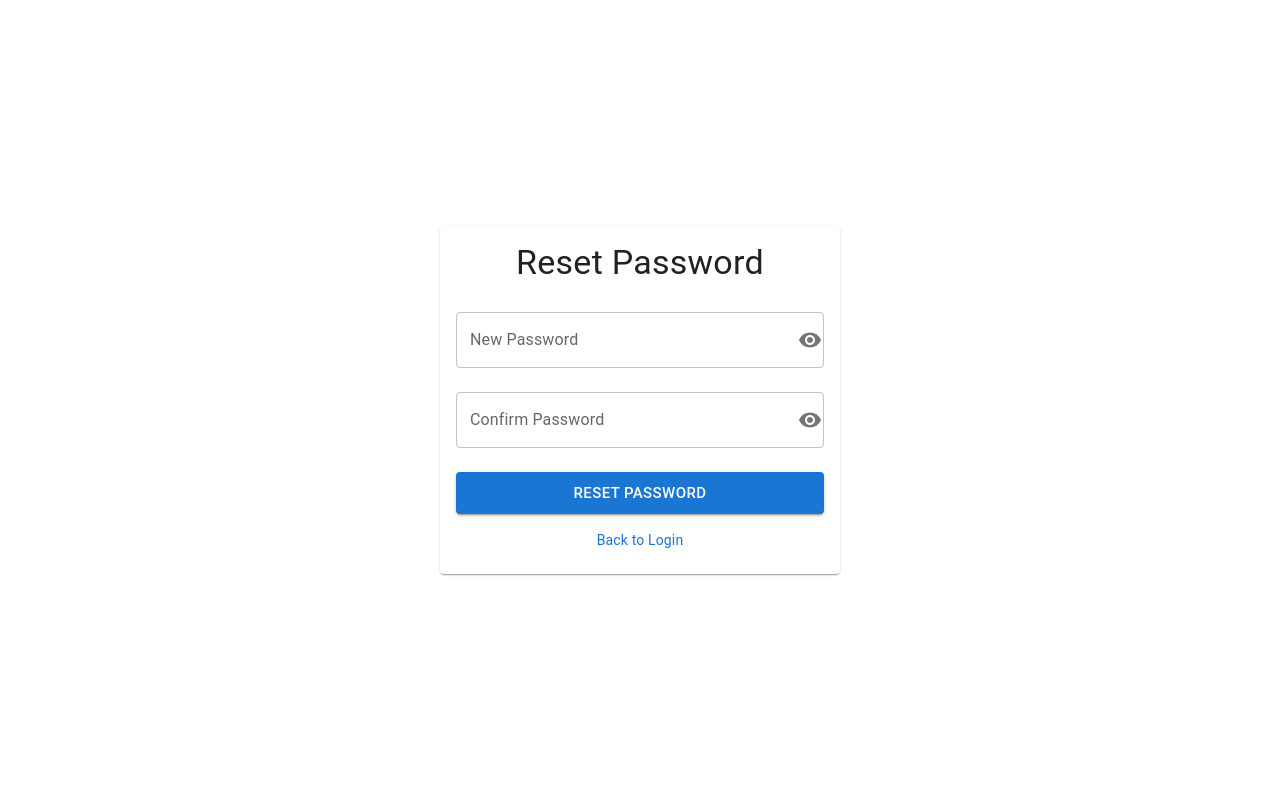
ResetPasswordForm › should show validation error for short password
Note: Type short password
Step 1. Type "123" into the password field labelled "New Password" → (623, 340), box 456,312 -> 790,368
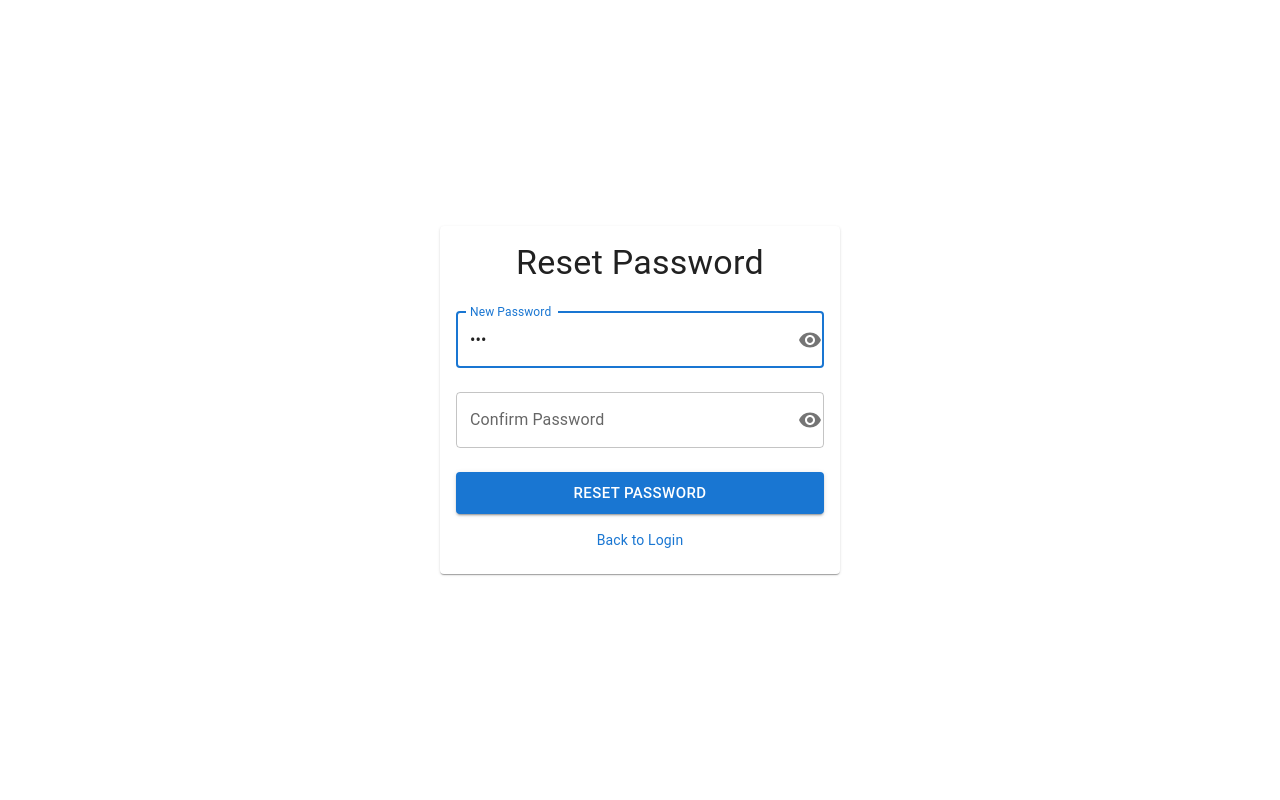
Step 2. Type "123" into the password field labelled "Confirm Password" → (623, 420), box 456,392 -> 790,448
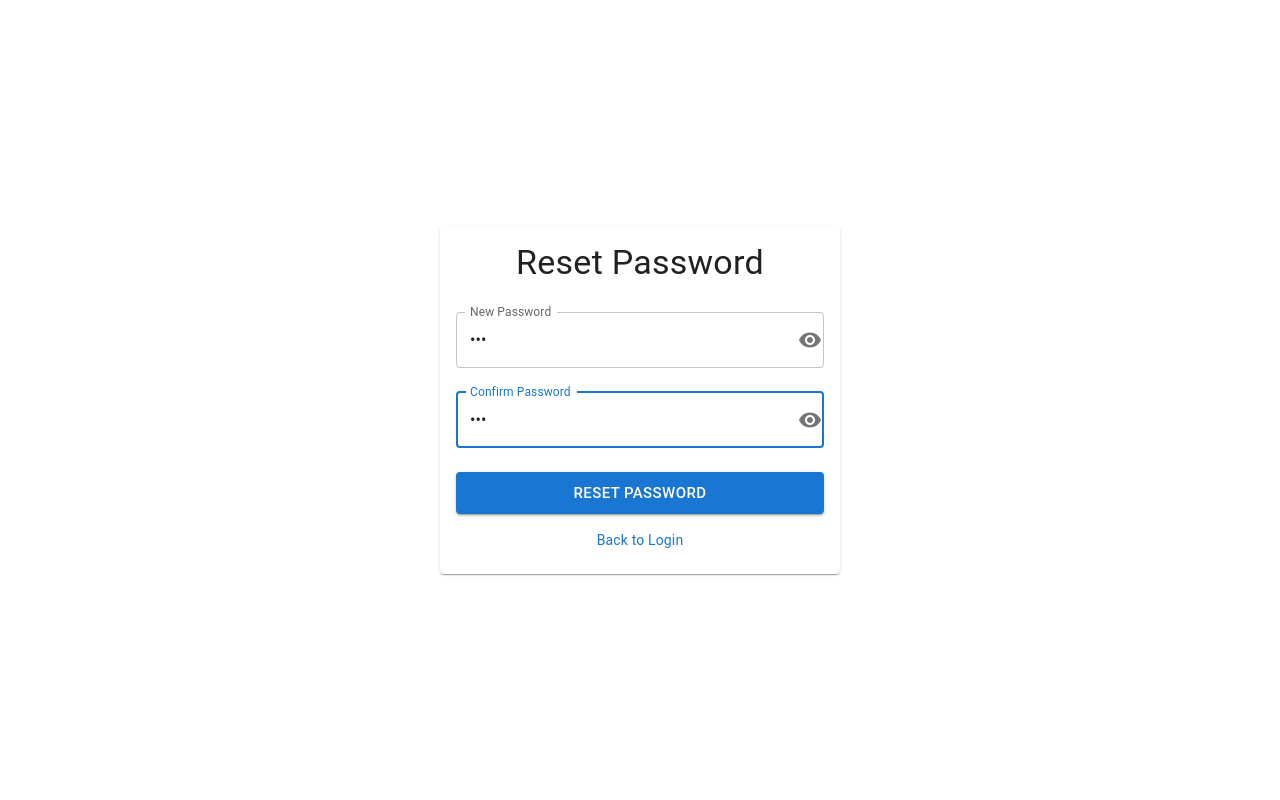
Step 3. Click the button "Reset Password" → (640, 493), box 456,472 -> 824,514
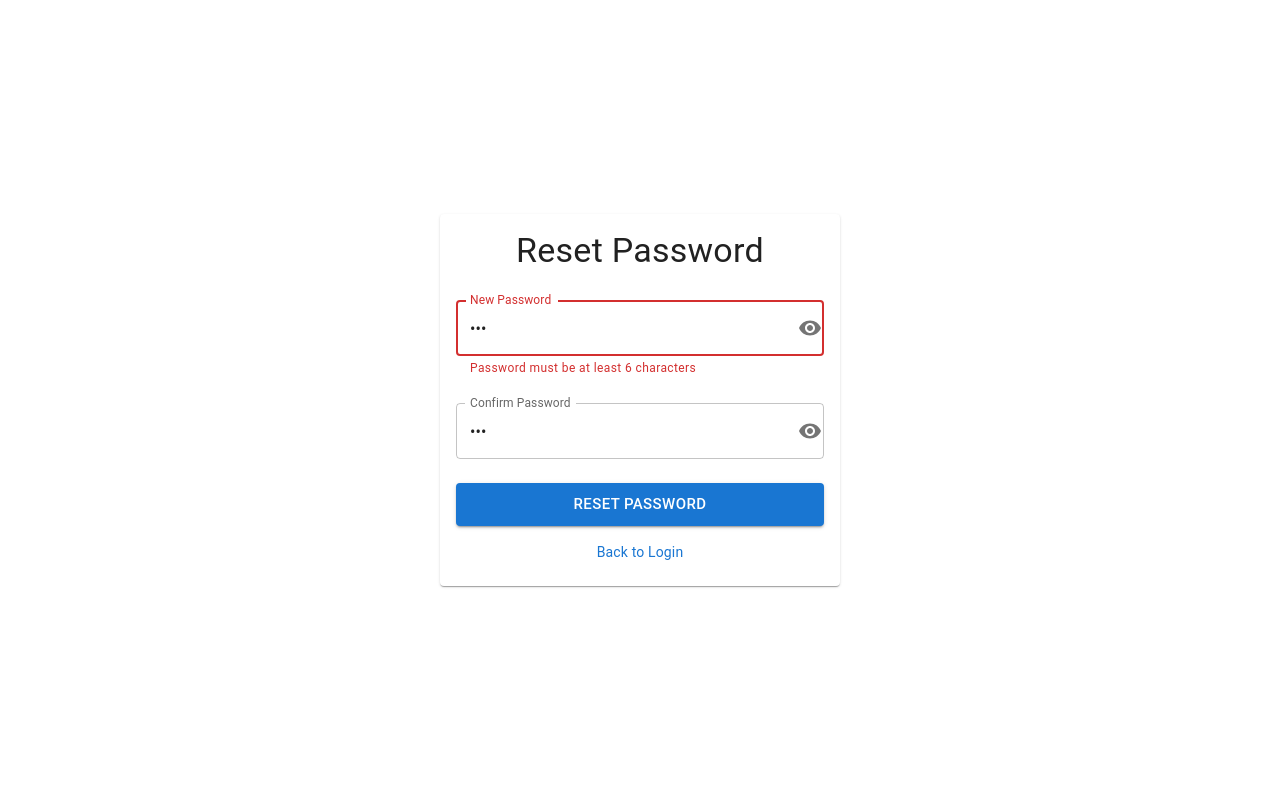
Now the text "Password must be at least 6 characters" is shown, box 470,361 -> 696,375
